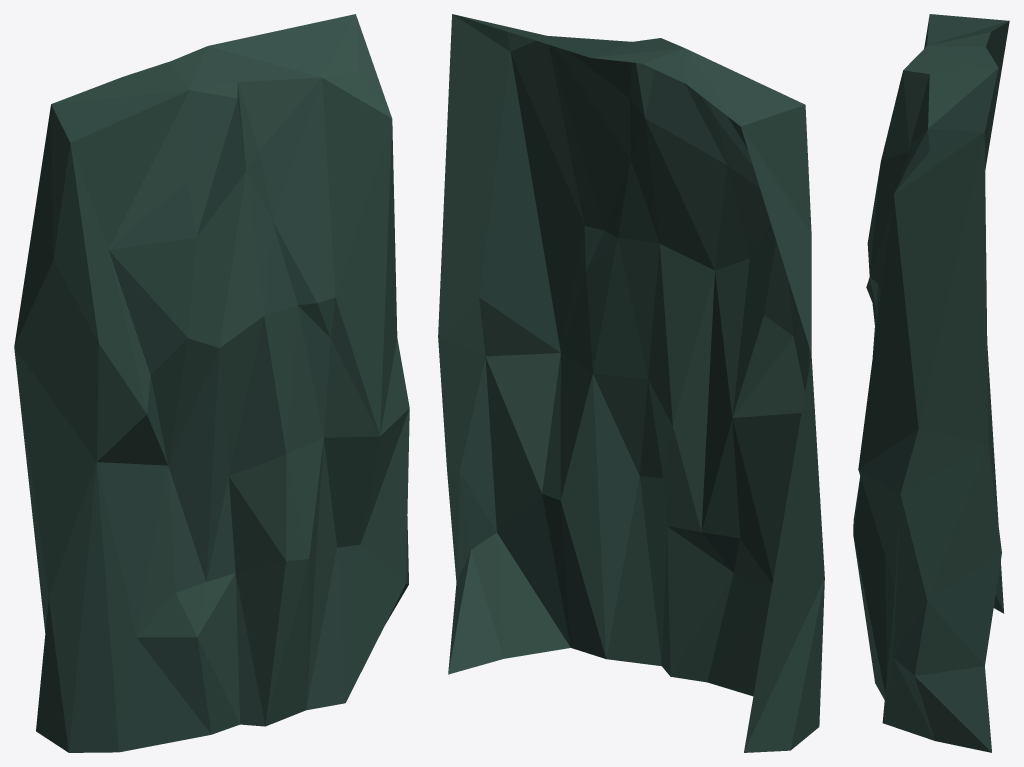
The model's file is Cave_00.FBX.
3 renders of one model, left to right at view 1: azimuth 30°, elevation 25°; view 2: azimuth 150°, elevation 25°; view 3: azimuth 270°, elevation 25°, orthographic. The views are drawn at different scales.
Visible parts, largest first — view 1: Cave_00; view 2: Cave_00; view 3: Cave_00.
Boxes of the visible parts, x1,y1,x2,y2 form: Cave_00: [14, 14, 409, 752]; Cave_00: [438, 14, 824, 752]; Cave_00: [853, 14, 1009, 752].
Bounding box in the file's own units: 33.63 × 55.75 × 12.74.
